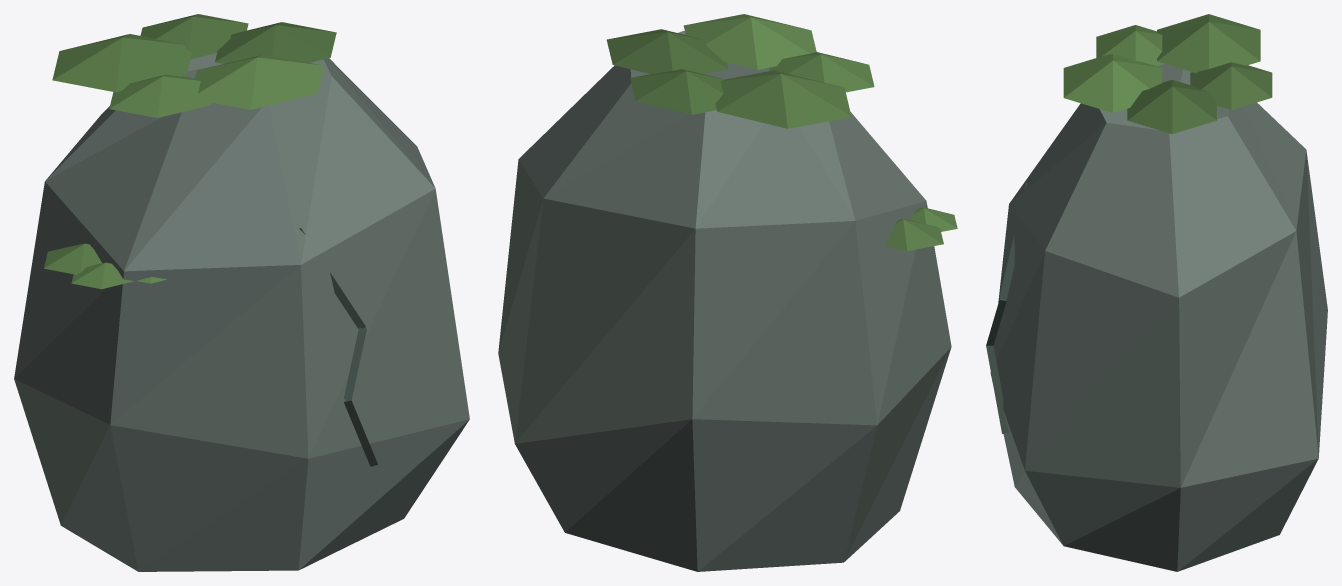
Rendered from mossy_rock_b.glb.
3 renders of one model, left to right at view 1: azimuth 30°, elevation 25°; view 2: azimuth 150°, elevation 25°; view 3: azimuth 270°, elevation 25°, orthographic. The views are drawn at different scales.
Parts seen in each view (by area): view 1: geometry; view 2: geometry; view 3: geometry.
Part boxes in pixels (x1=…): geometry: x1=14, y1=14, x2=469, y2=571; geometry: x1=498, y1=14, x2=957, y2=571; geometry: x1=986, y1=14, x2=1327, y2=571.
Size of the model in its own units: 1.65 by 1.78 by 1.27.
